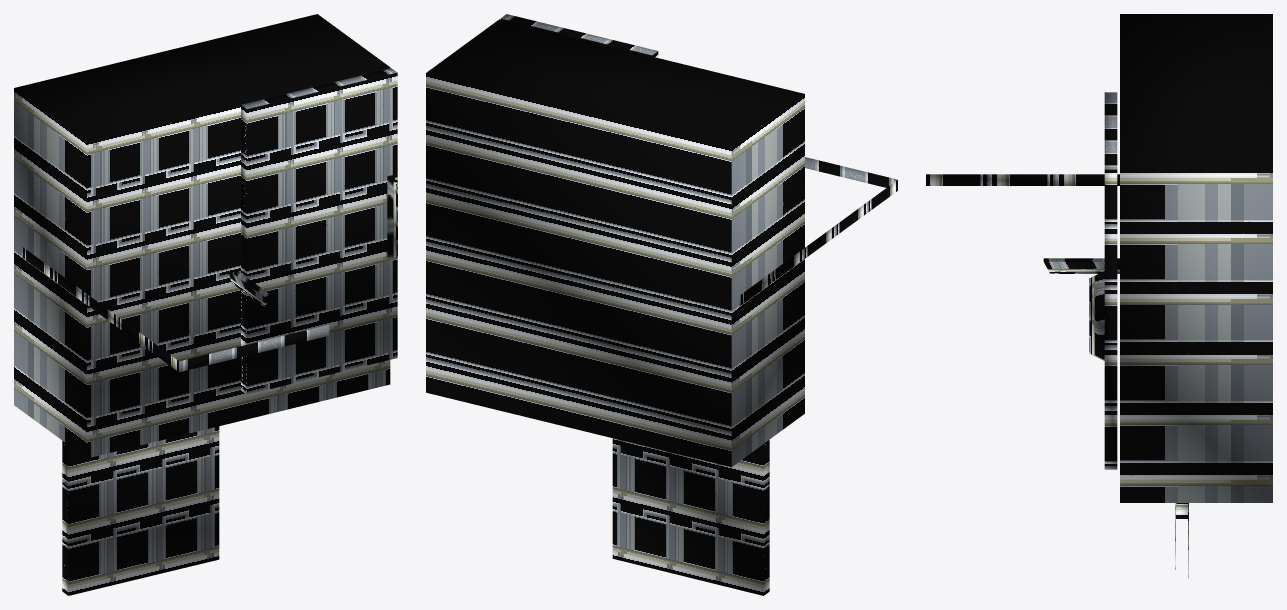
File: 3394IMIG19_02.gltf
The picture shows the model from 3 angles, left to right: view 1: azimuth 30°, elevation 25°; view 2: azimuth 150°, elevation 25°; view 3: azimuth 270°, elevation 25°; orthographic projection. The views are drawn at different scales.
Visible parts, largest first — view 1: 3394IMIG19_02; view 2: 3394IMIG19_02; view 3: 3394IMIG19_02.
Boxes of the visible parts, <box> form: 3394IMIG19_02: <box>14,14,397,595</box>; 3394IMIG19_02: <box>426,14,897,595</box>; 3394IMIG19_02: <box>926,14,1272,577</box>.
Bounding box in the file's own units: 2 × 3 × 1.88.
4 materials, 4 textured.
